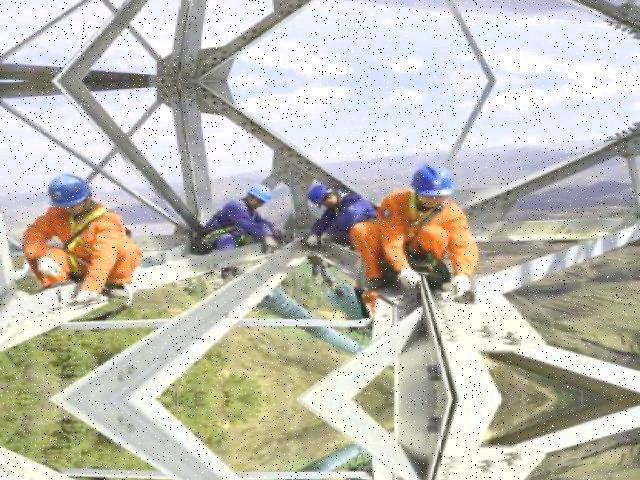Helmet: (404, 156, 462, 200), (41, 170, 93, 210), (301, 179, 333, 209), (242, 180, 270, 208)
